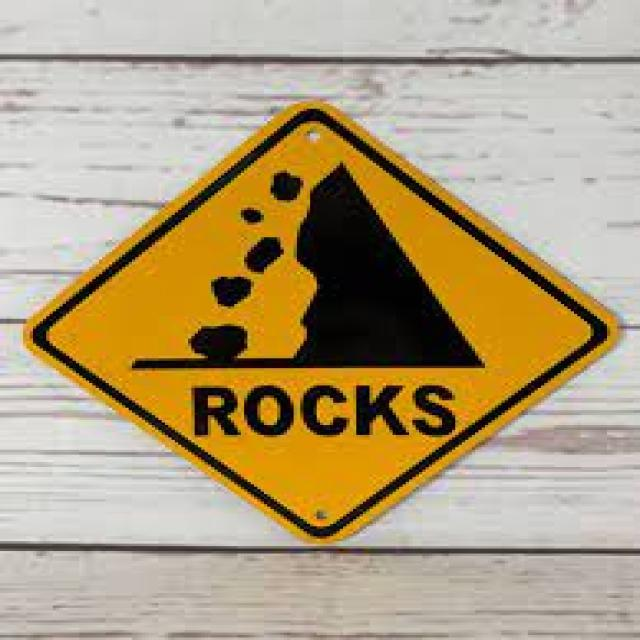falling rocks: (37, 105, 607, 537)
